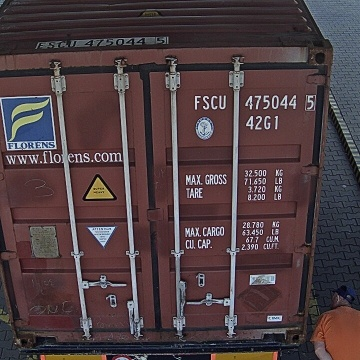serial_id: (195, 94, 316, 109)
